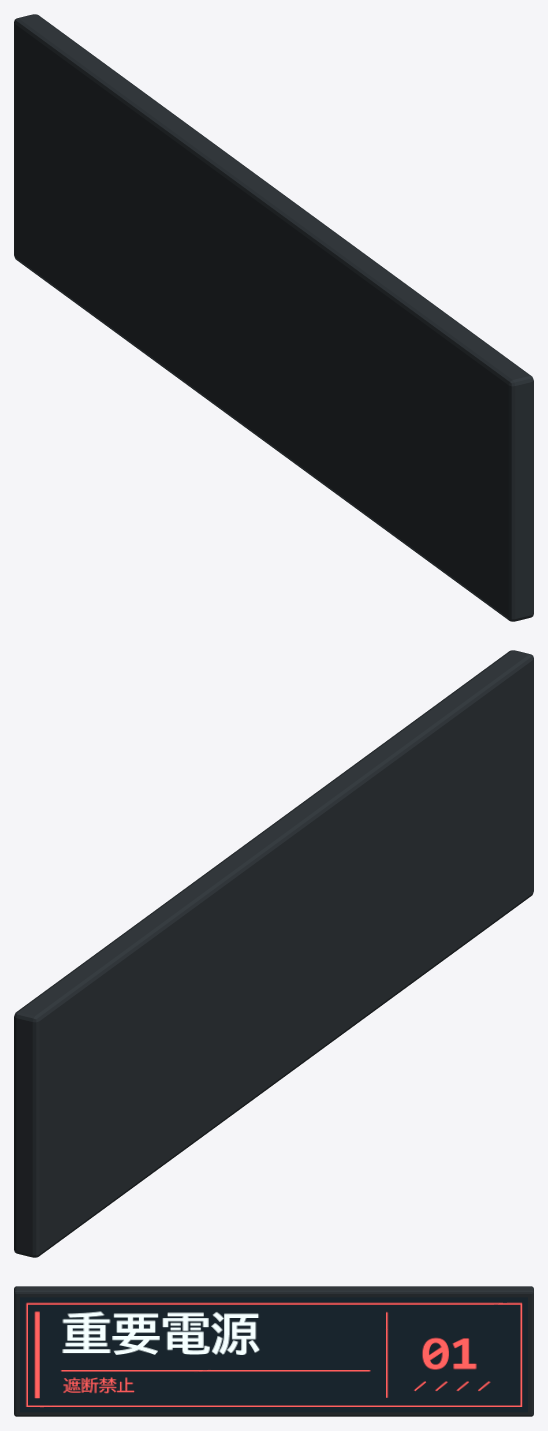
Rendered from critical-power-01.glb.
3 renders of one model, top to bottom at view 1: azimuth 30°, elevation 25°; view 2: azimuth 150°, elevation 25°; view 3: azimuth 270°, elevation 25°, orthographic. The views are drawn at different scales.
Parts seen in each view (by area): view 1: Critical power sign | graphite housing; view 2: Critical power sign | graphite housing; view 3: Critical power sign | label face, Critical power sign | graphite housing.
Part boxes in pixels (x1,y1,x2,y2): Critical power sign | graphite housing: (14,14,533,621); Critical power sign | graphite housing: (14,650,533,1257); Critical power sign | label face: (20,1297,527,1412); Critical power sign | graphite housing: (14,1286,533,1416).
Bounding box in the file's own units: 0.031 × 0.279 × 1.04.
2 materials, 1 textured.
